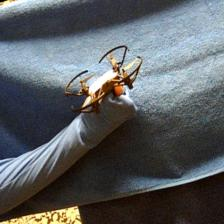drone: (64, 44, 146, 115)
